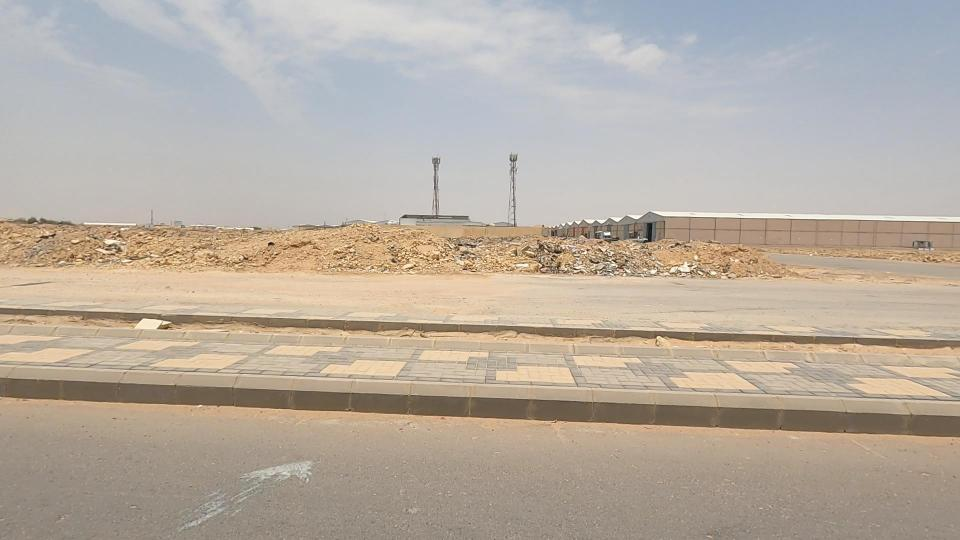GARBAGE: (556, 227, 665, 296), (63, 220, 179, 278), (494, 219, 579, 291), (90, 302, 216, 341), (652, 249, 730, 294), (9, 211, 76, 256)
